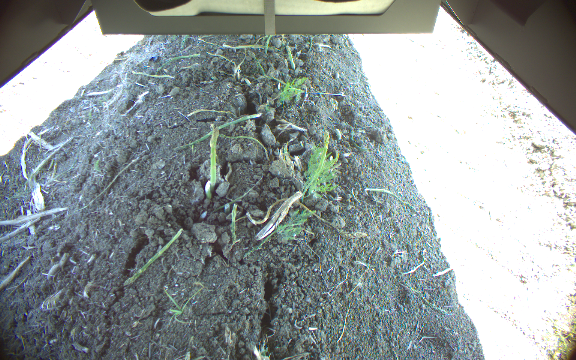aspa: (311, 127, 331, 183), (206, 124, 220, 197)
